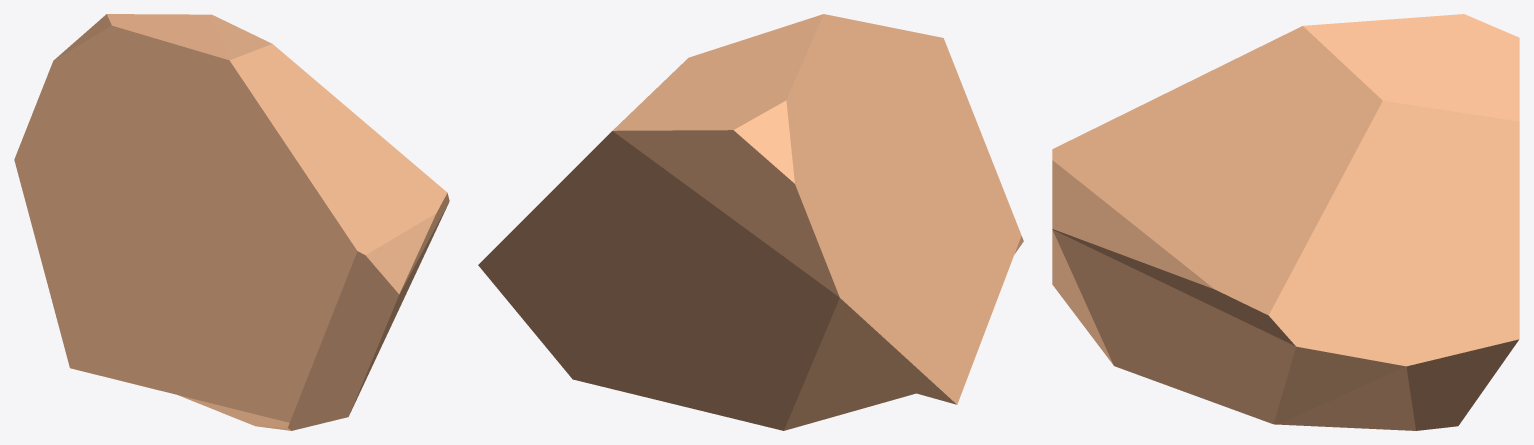
The model's file is Rock_03.fbx.
3 views of the same model, side by side, from view 1: azimuth 30°, elevation 25°; view 2: azimuth 150°, elevation 25°; view 3: azimuth 270°, elevation 25° (orthographic). The views are drawn at different scales.
Parts seen in each view (by area): view 1: Cube_cell.004; view 2: Cube_cell.004; view 3: Cube_cell.004.
Part boxes in pixels (x1=…): Cube_cell.004: x1=14, y1=14, x2=449, y2=430; Cube_cell.004: x1=478, y1=14, x2=1023, y2=430; Cube_cell.004: x1=1052, y1=14, x2=1519, y2=430.
Size of the model in its own units: 344 by 275 by 360.
